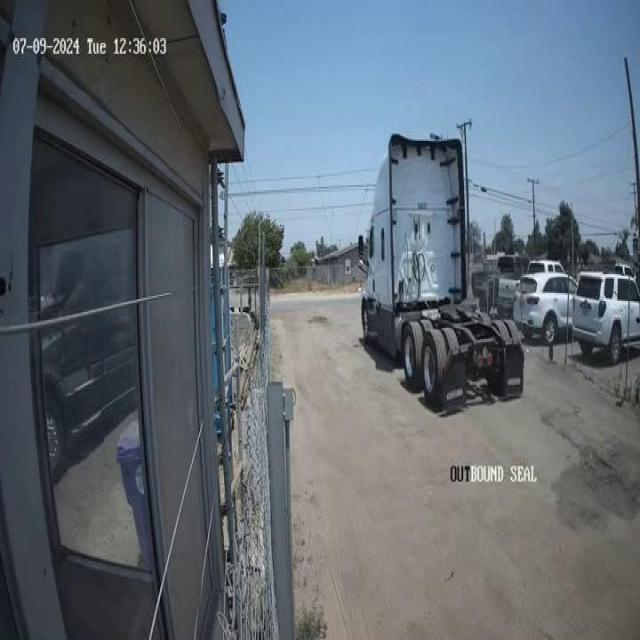BOBTAIL: (358, 132, 525, 408)
